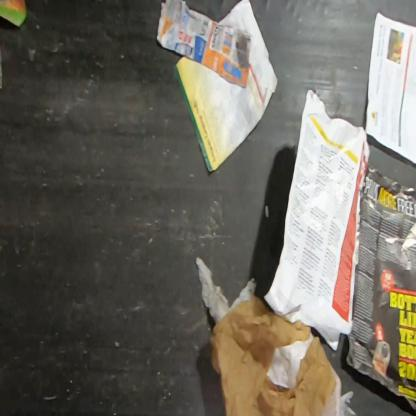cardboard: (0, 0, 29, 30)
